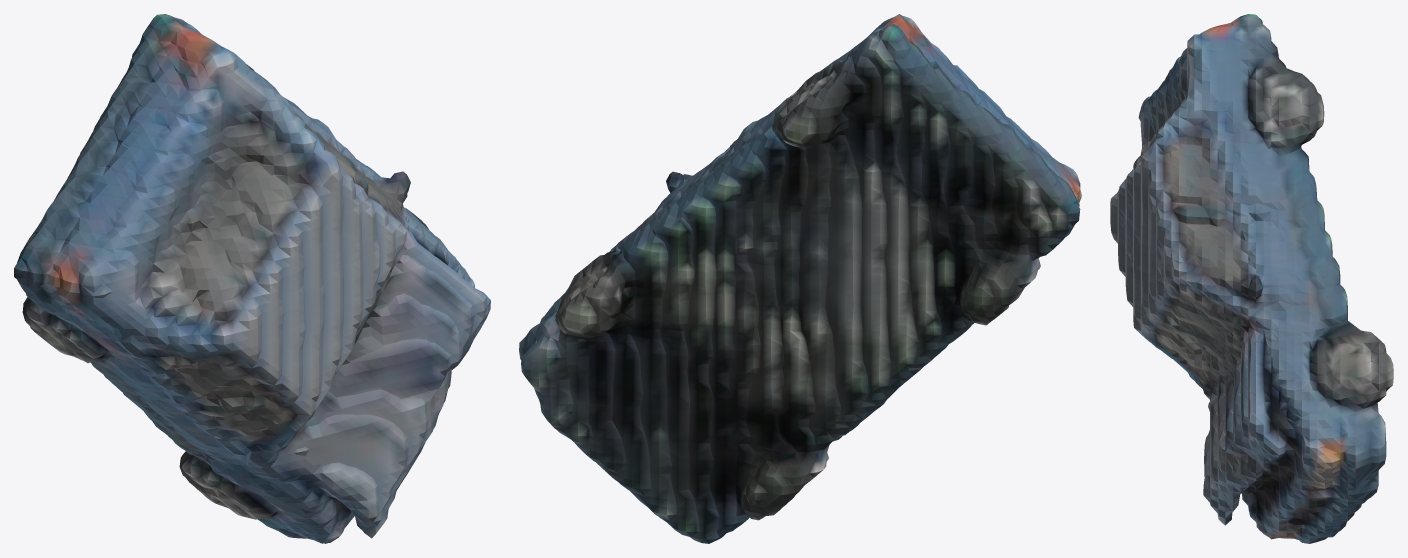
The model's file is damaged-blue-car.glb.
3 views of the same model, side by side, from view 1: azimuth 30°, elevation 25°; view 2: azimuth 150°, elevation 25°; view 3: azimuth 270°, elevation 25° (orthographic). The views are drawn at different scales.
Parts seen in each view (by area): view 1: world; view 2: world; view 3: world.
Boxes of the visible parts, bbox=[...] form: world: bbox=[14, 14, 490, 543]; world: bbox=[519, 14, 1081, 543]; world: bbox=[1110, 14, 1393, 543].
Size of the model in its own units: 0.86 by 0.9055 by 0.5057.
